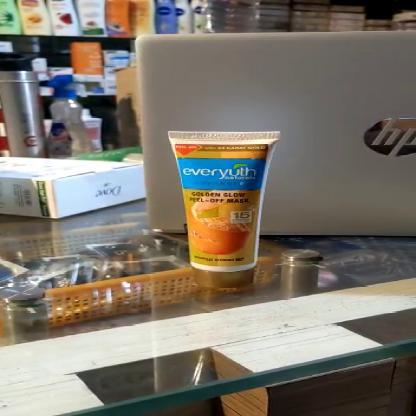EY ADVANCED GOLDEN GLOW PEEL OFF M- 90G: (163, 130, 293, 292)
